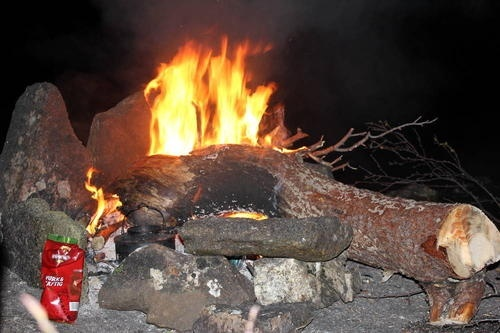fire: (141, 36, 288, 157), (82, 166, 126, 234), (435, 204, 474, 248)
